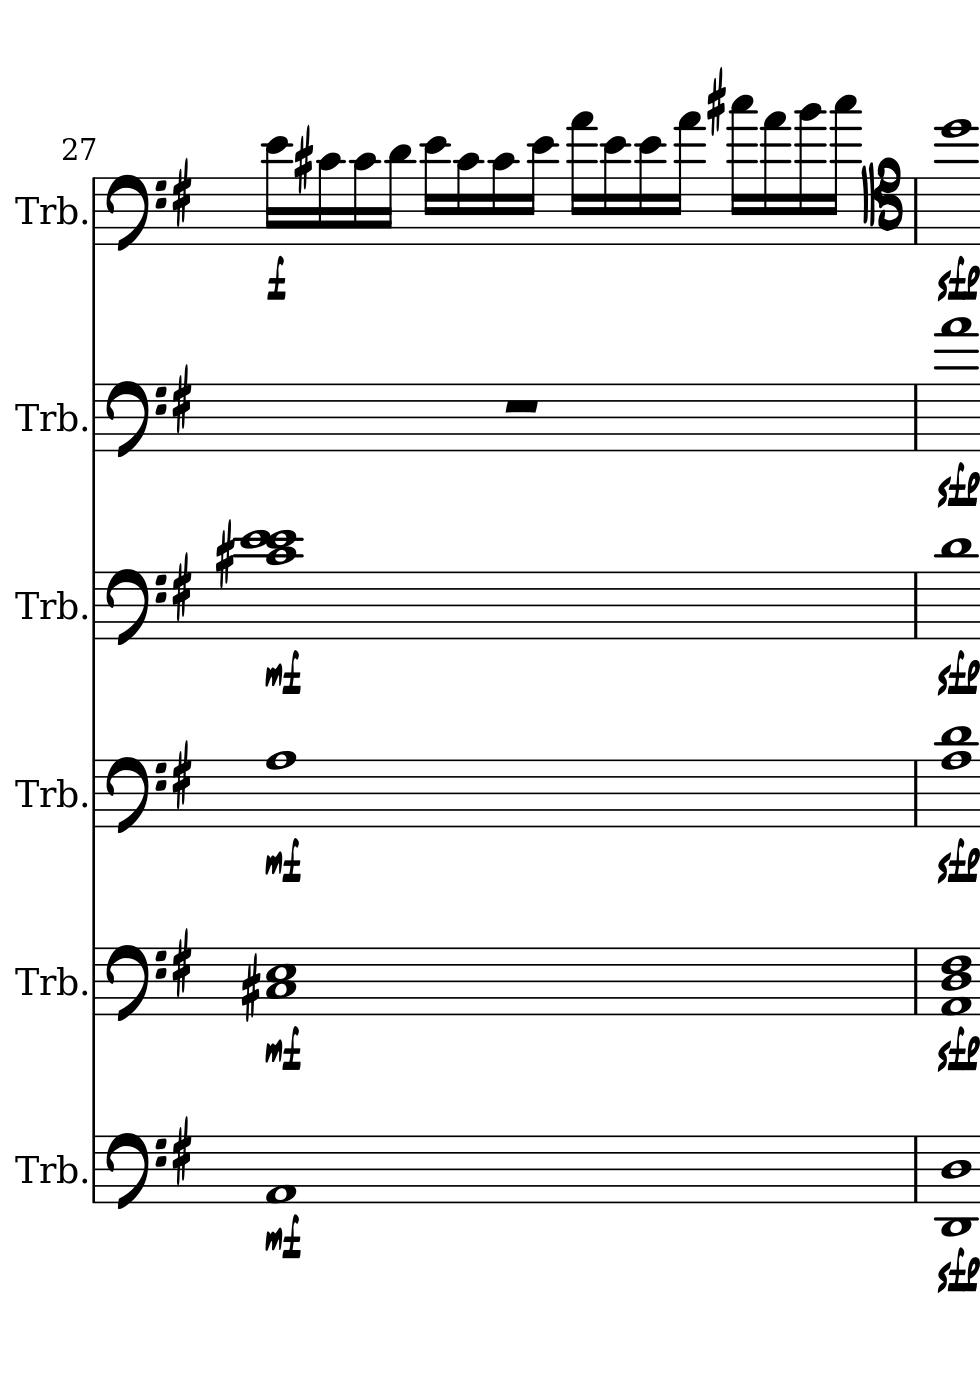16_10: (454, 152, 482, 248), (489, 152, 517, 247), (316, 151, 342, 247), (351, 152, 377, 247)
16_11: (381, 144, 412, 248)
16_12: (521, 135, 557, 247), (635, 135, 664, 247), (600, 136, 629, 247), (421, 134, 449, 248), (262, 135, 288, 248)
16_15: (668, 115, 703, 245), (566, 112, 596, 244), (762, 110, 787, 247)
16_16: (794, 102, 823, 248)
16_17: (826, 94, 858, 247), (727, 93, 756, 244)
1_-3_4: (934, 1134, 980, 1236)
1_1: (265, 1131, 296, 1209)
1_11: (937, 536, 974, 642)
1_14: (935, 116, 976, 248)
1_15: (941, 316, 974, 453)
1_3_4: (266, 946, 299, 1018)
1_8: (264, 747, 296, 831)
1_8_10: (933, 724, 977, 830)
1_th: (937, 945, 976, 1017)
2: (60, 136, 78, 164)
7: (78, 135, 97, 164)
Fclef: (105, 942, 168, 1024), (104, 1130, 167, 1213), (104, 378, 167, 459), (105, 173, 167, 255), (104, 566, 165, 647), (105, 754, 167, 835)
Rests1: (500, 394, 542, 417)
Sharp: (213, 517, 237, 591), (170, 158, 193, 229), (170, 740, 193, 810), (170, 1117, 193, 1187), (292, 124, 314, 196), (704, 66, 727, 136), (170, 928, 192, 998), (239, 952, 260, 1023)
Single_barline: (906, 760, 925, 827), (906, 572, 924, 638), (907, 384, 923, 450), (908, 948, 924, 1014), (87, 572, 102, 639), (87, 948, 102, 1015), (908, 1136, 923, 1203), (908, 178, 923, 244), (87, 385, 102, 451), (87, 761, 102, 827), (87, 178, 101, 245), (87, 1136, 101, 1203)
Tensor_Cclef: (861, 157, 903, 247)
Trb: (11, 584, 78, 627), (11, 960, 78, 1002), (12, 396, 78, 437), (12, 773, 77, 814), (12, 192, 78, 231), (11, 1150, 77, 1189)
f: (263, 255, 287, 303)
mf: (263, 837, 303, 885), (264, 1215, 304, 1261), (264, 649, 303, 696), (264, 1027, 303, 1072)
sf: (939, 1245, 973, 1294), (935, 650, 968, 696), (935, 837, 967, 883), (937, 461, 967, 509), (937, 253, 966, 302), (937, 1027, 965, 1071)
